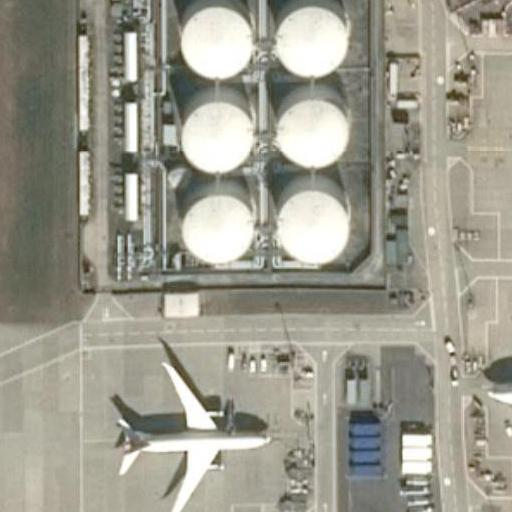Aircraft: (105, 346, 277, 512), (472, 271, 512, 501)
